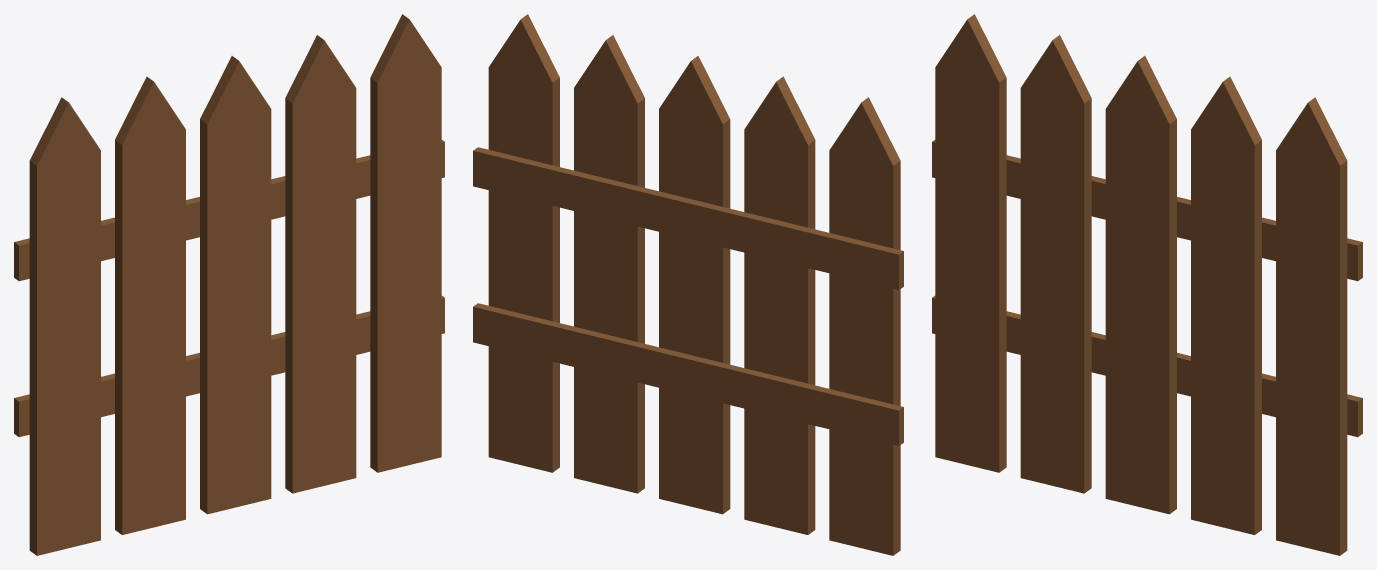
File: Fence_7_Light_Brown.fbx
3 views of the same model, side by side, from view 1: azimuth 30°, elevation 25°; view 2: azimuth 150°, elevation 25°; view 3: azimuth 330°, elevation 25° (orthographic).
Parts seen in each view (by area): view 1: Fence_7_Light_Brown; view 2: Fence_7_Light_Brown; view 3: Fence_7_Light_Brown.
Boxes of the visible parts, x1=… form: Fence_7_Light_Brown: x1=14, y1=14, x2=444, y2=555; Fence_7_Light_Brown: x1=473, y1=14, x2=903, y2=555; Fence_7_Light_Brown: x1=932, y1=14, x2=1362, y2=555.
Size of the model in its own units: 100 by 100 by 5.
